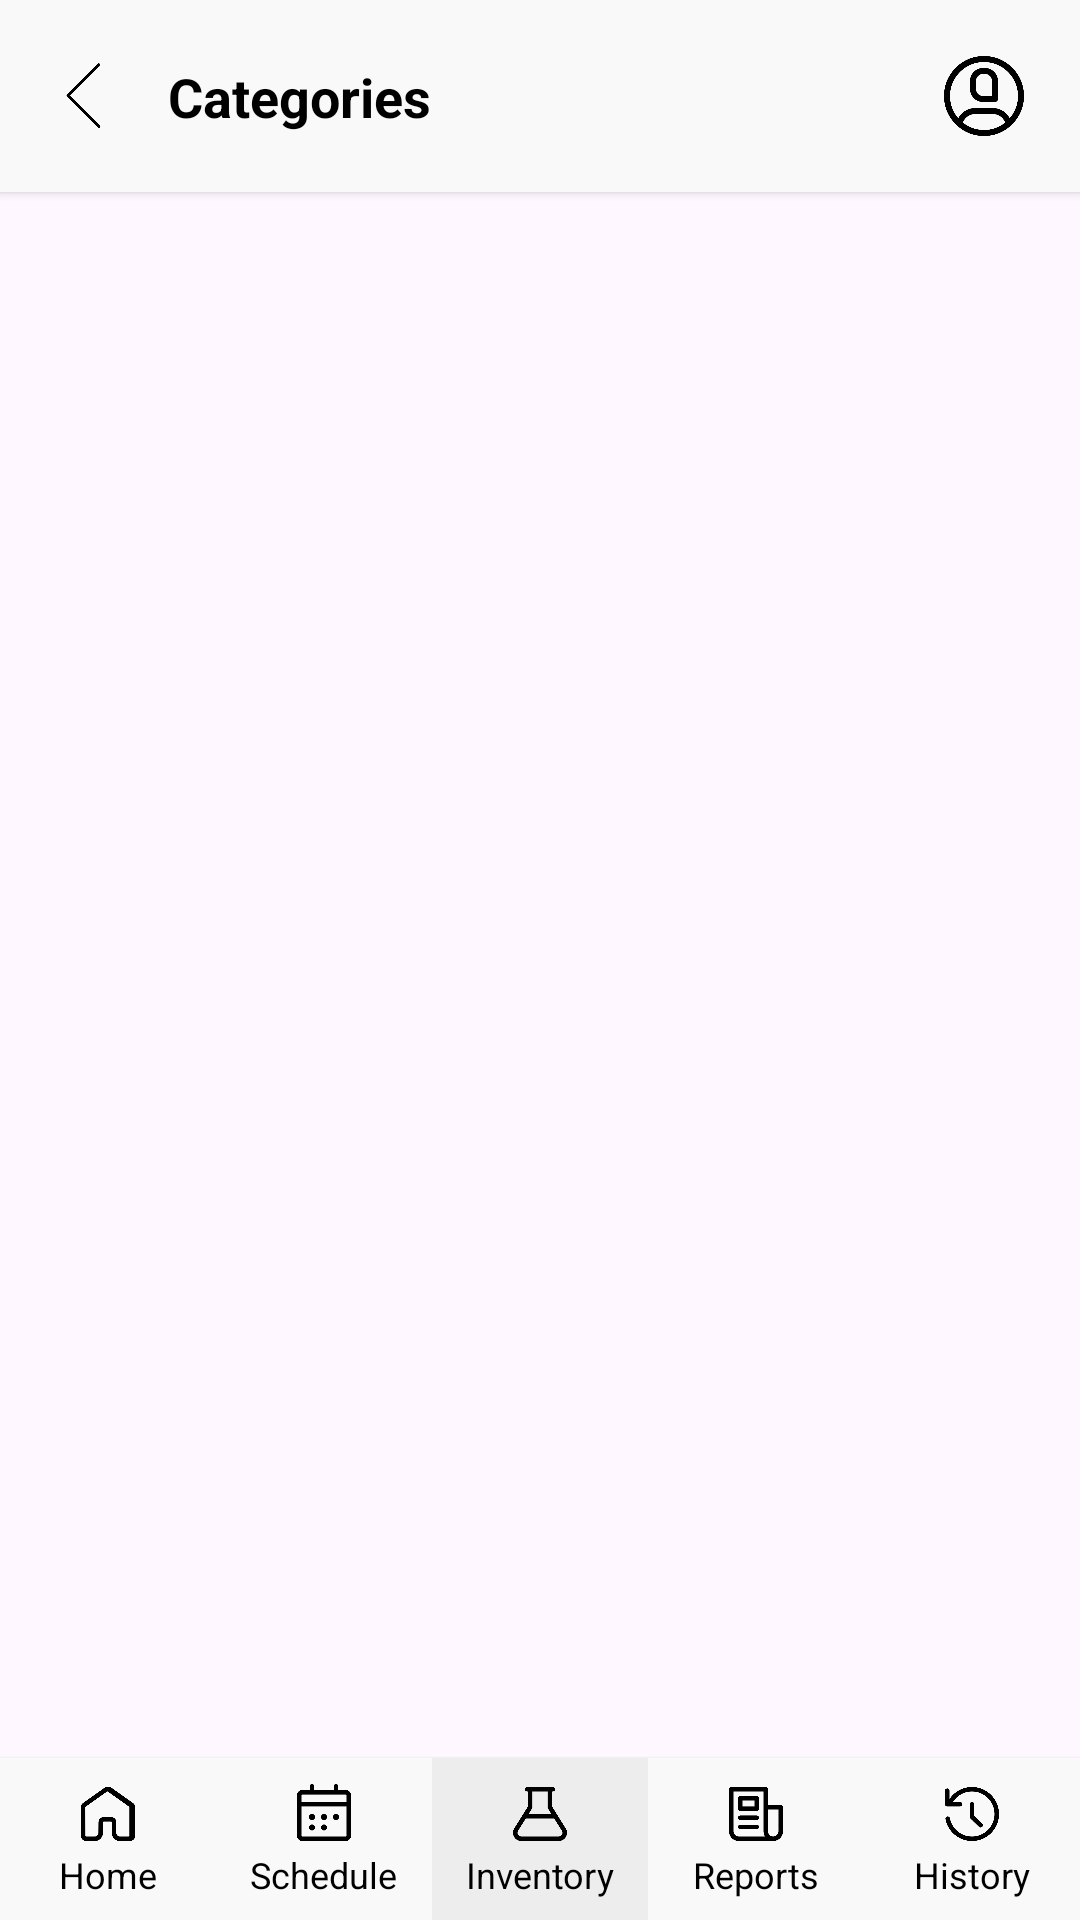

Locate icon controls on the screen. Image size 1080 x 1920, boxes as (x1=x1, y1=y1, x2=x2, y2=y2).
Back: (x1=66, y1=63, x2=100, y2=128)
User Icon: (x1=944, y1=56, x2=1024, y2=136)
